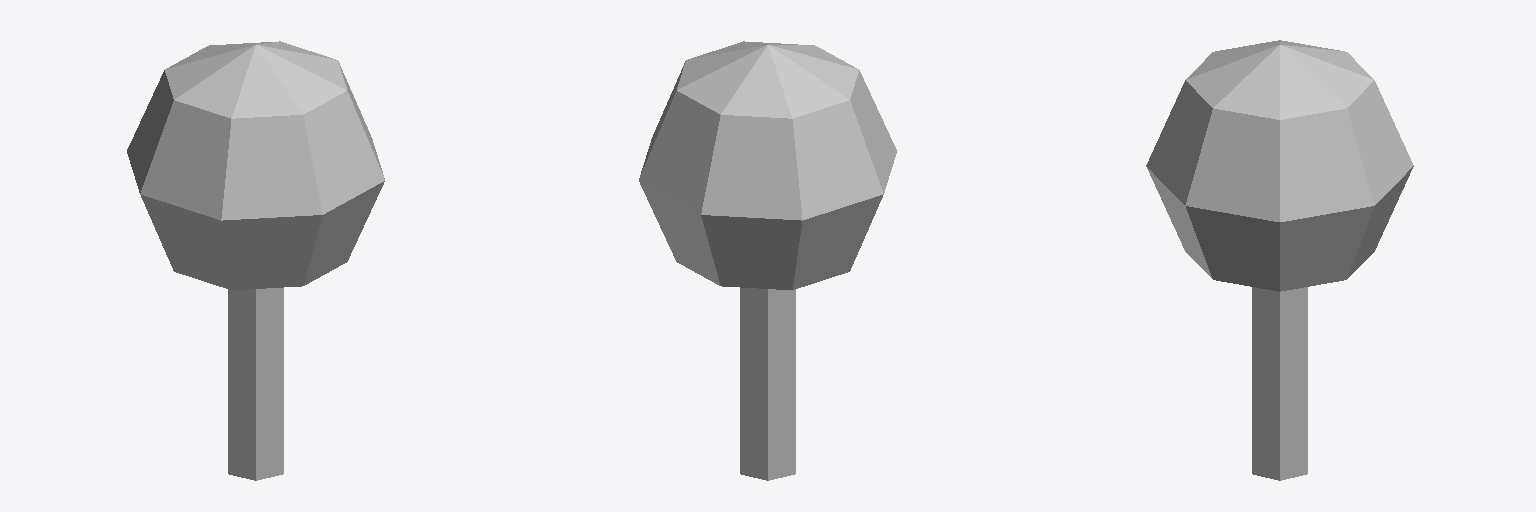
File: tree.obj
The picture shows the model from 3 angles: view 1: azimuth 30°, elevation 25°; view 2: azimuth 150°, elevation 25°; view 3: azimuth 270°, elevation 25°; orthographic projection.
Visible parts, largest first — view 1: Sphere, Cylinder; view 2: Sphere, Cylinder; view 3: Sphere, Cylinder.
Boxes of the visible parts, x1=… form: Sphere: x1=127, y1=41, x2=384, y2=289; Cylinder: x1=228, y1=288, x2=283, y2=480; Sphere: x1=639, y1=41, x2=896, y2=289; Cylinder: x1=740, y1=288, x2=795, y2=480; Sphere: x1=1146, y1=40, x2=1413, y2=291; Cylinder: x1=1252, y1=287, x2=1307, y2=480.
Size of the model in its own units: 200 by 348 by 200.